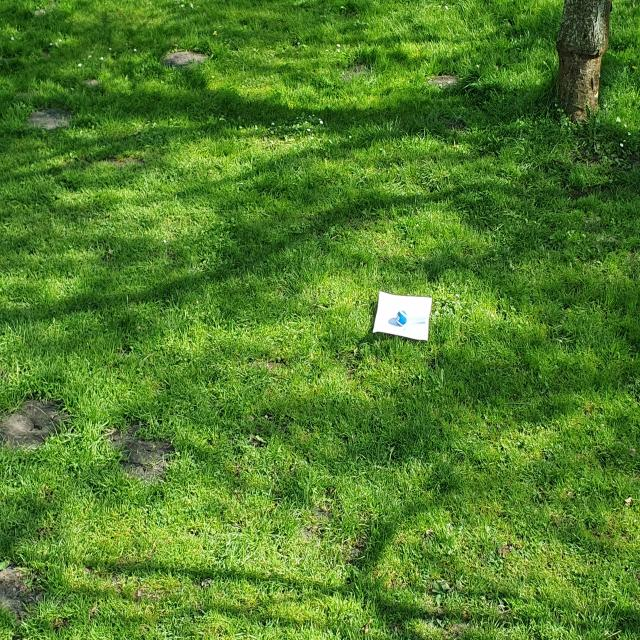blue: (396, 310, 408, 326)
